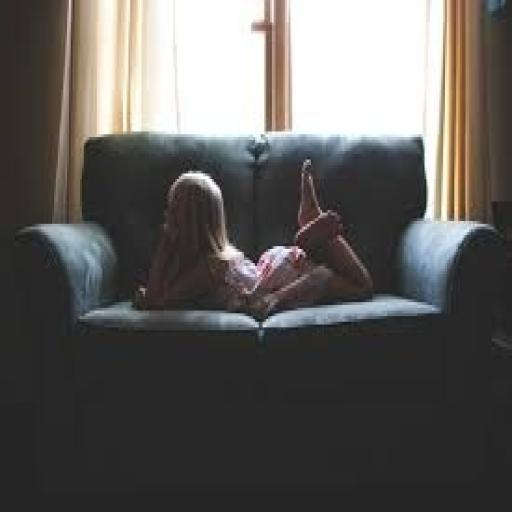sitting: (130, 157, 374, 319)
